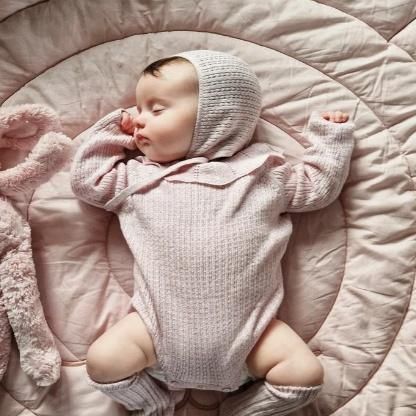baby: (70, 48, 353, 415)
